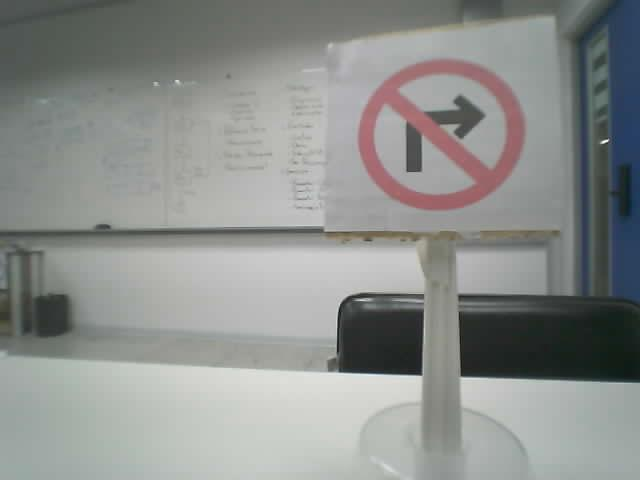R-4b_proibido-direita: (357, 58, 525, 211)
